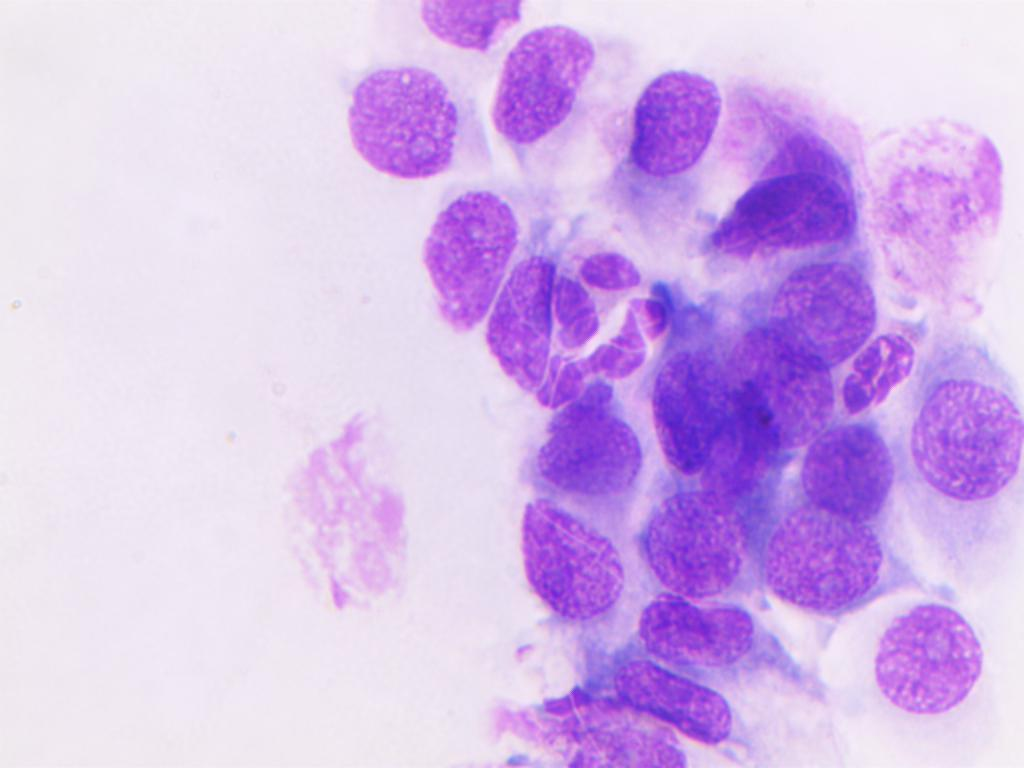artifact: (251, 401, 413, 618), (856, 111, 1007, 309)
epithelial: (324, 48, 490, 183), (906, 326, 1022, 508), (696, 324, 841, 468), (754, 245, 906, 378), (604, 52, 721, 218), (499, 493, 634, 627), (716, 144, 855, 259), (508, 402, 660, 501), (598, 654, 744, 756), (872, 599, 995, 719), (408, 190, 515, 326), (491, 25, 596, 162), (638, 487, 762, 596), (625, 596, 779, 683), (485, 246, 566, 398), (798, 419, 898, 523), (772, 510, 867, 612), (407, 0, 564, 40)
metaplastic: (657, 330, 726, 466)
neutrophil: (552, 246, 667, 384), (835, 316, 926, 417)
